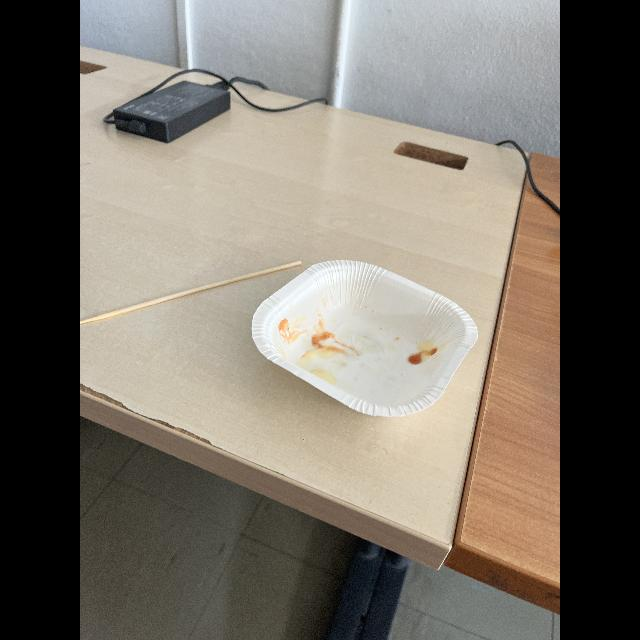cardboard_bowl: (244, 258, 480, 416)
stick: (80, 254, 306, 322)
